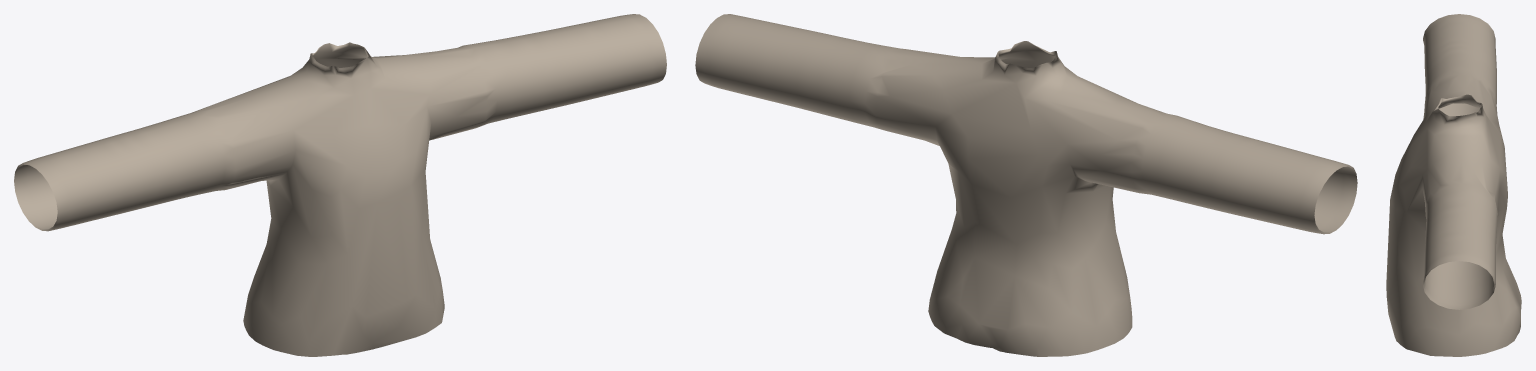
File: fitted-turtleneck-only.glb
3 renders of one model, left to right at view 1: azimuth 30°, elevation 25°; view 2: azimuth 150°, elevation 25°; view 3: azimuth 270°, elevation 25°, orthographic. The views are drawn at different scales.
Parts seen in each view (by area): view 1: Apparel_fitted-turtleneck; view 2: Apparel_fitted-turtleneck; view 3: Apparel_fitted-turtleneck.
Part boxes in pixels (bbox=[...]): Apparel_fitted-turtleneck: bbox=[14, 14, 666, 356]; Apparel_fitted-turtleneck: bbox=[695, 14, 1357, 356]; Apparel_fitted-turtleneck: bbox=[1386, 14, 1521, 356].
Bounding box in the file's own units: 3.09 × 1.28 × 0.7187.
